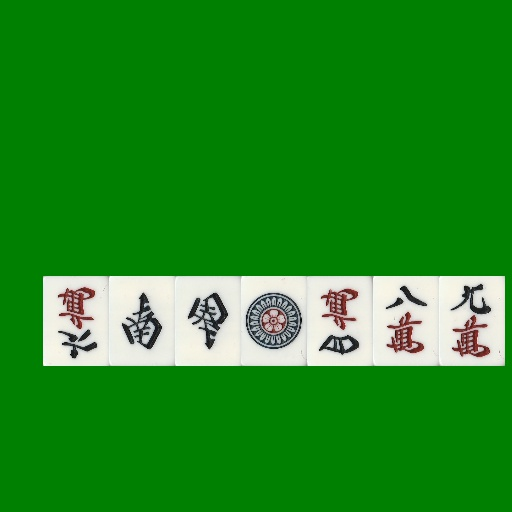1p: (241, 276, 307, 366)
4m: (307, 276, 373, 366)
6m: (43, 276, 109, 366)
8m: (373, 276, 439, 366)
9m: (439, 276, 505, 366)
south: (109, 276, 175, 366), (175, 276, 241, 366)
